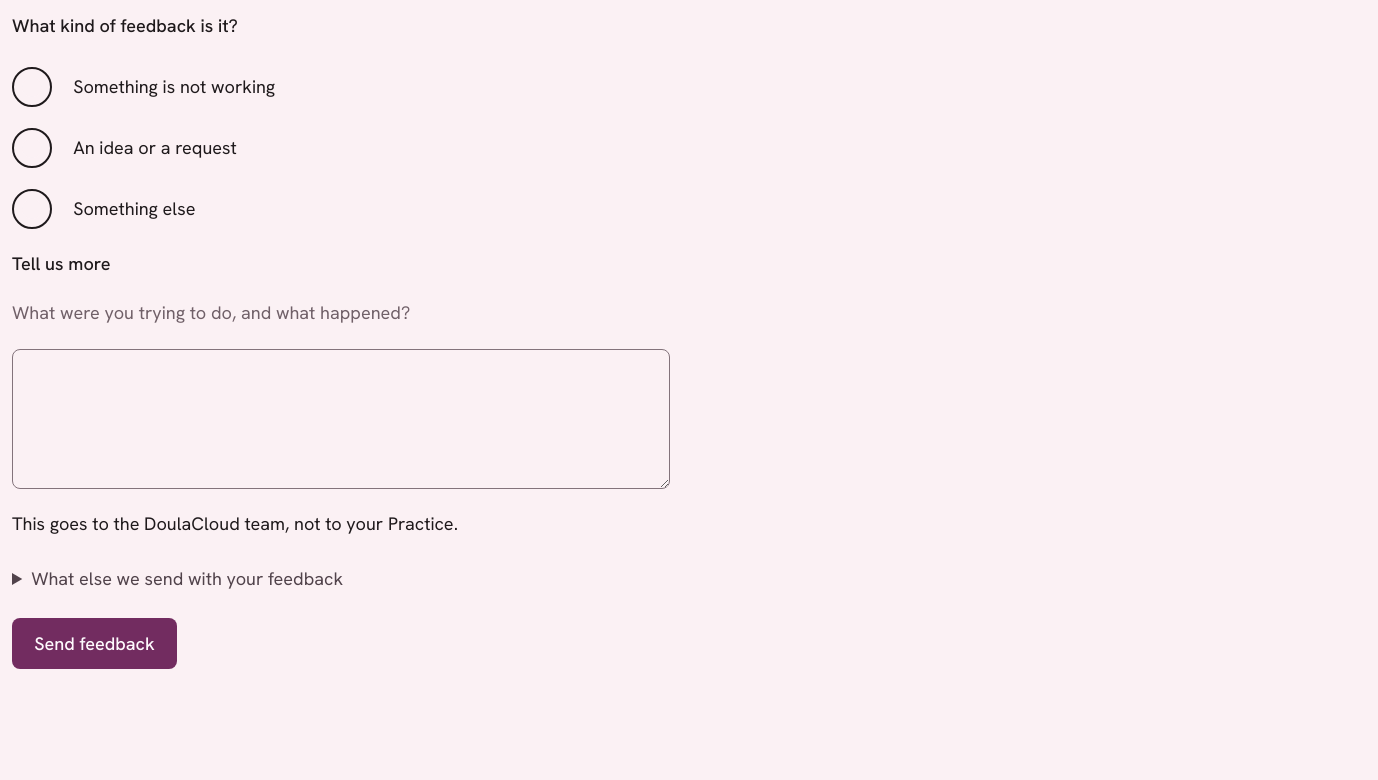
Test: FeedbackForm › targets the text field when the refusal names it
Click the radio button labelled "Something is not working". click: click(32, 87)
box: [12,67,52,107]
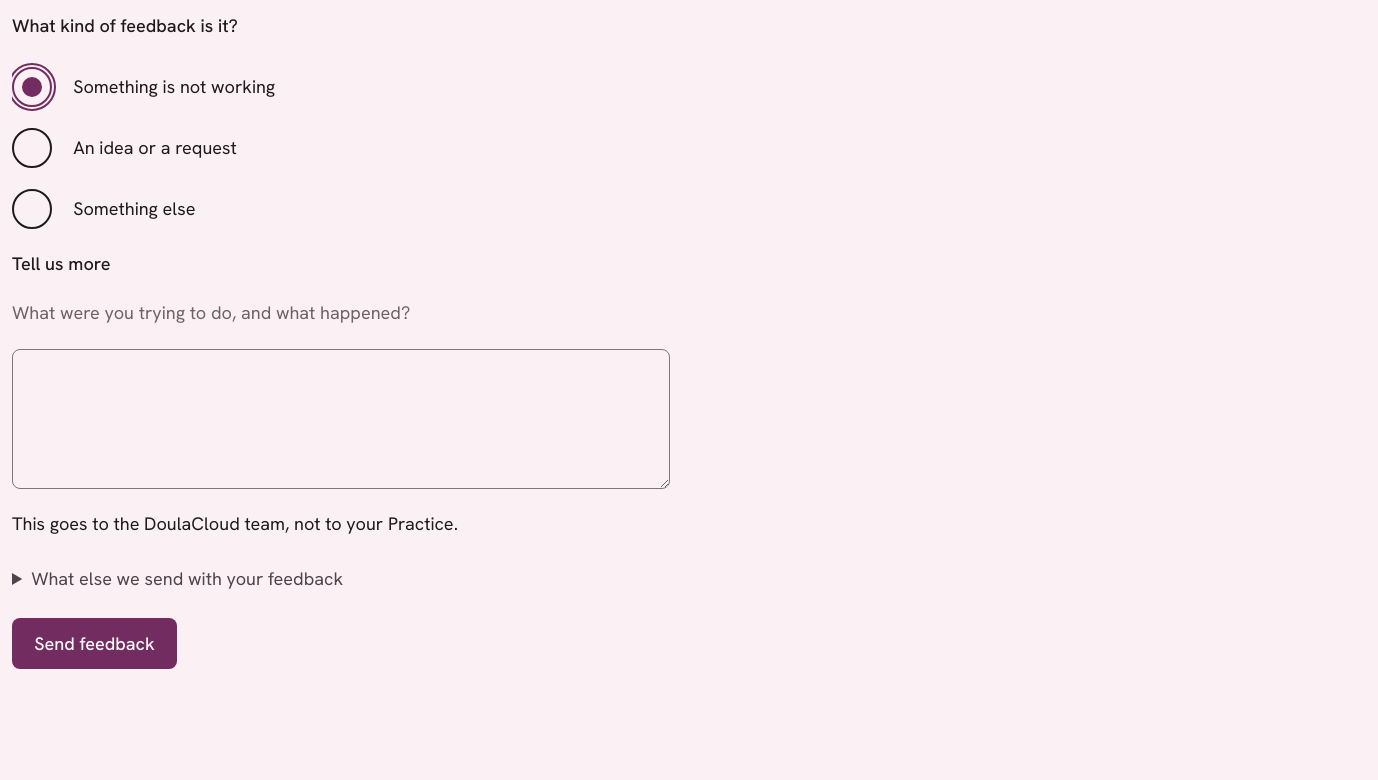
Click the button "Send feedback". click: click(94, 644)
box: [12,618,177,670]
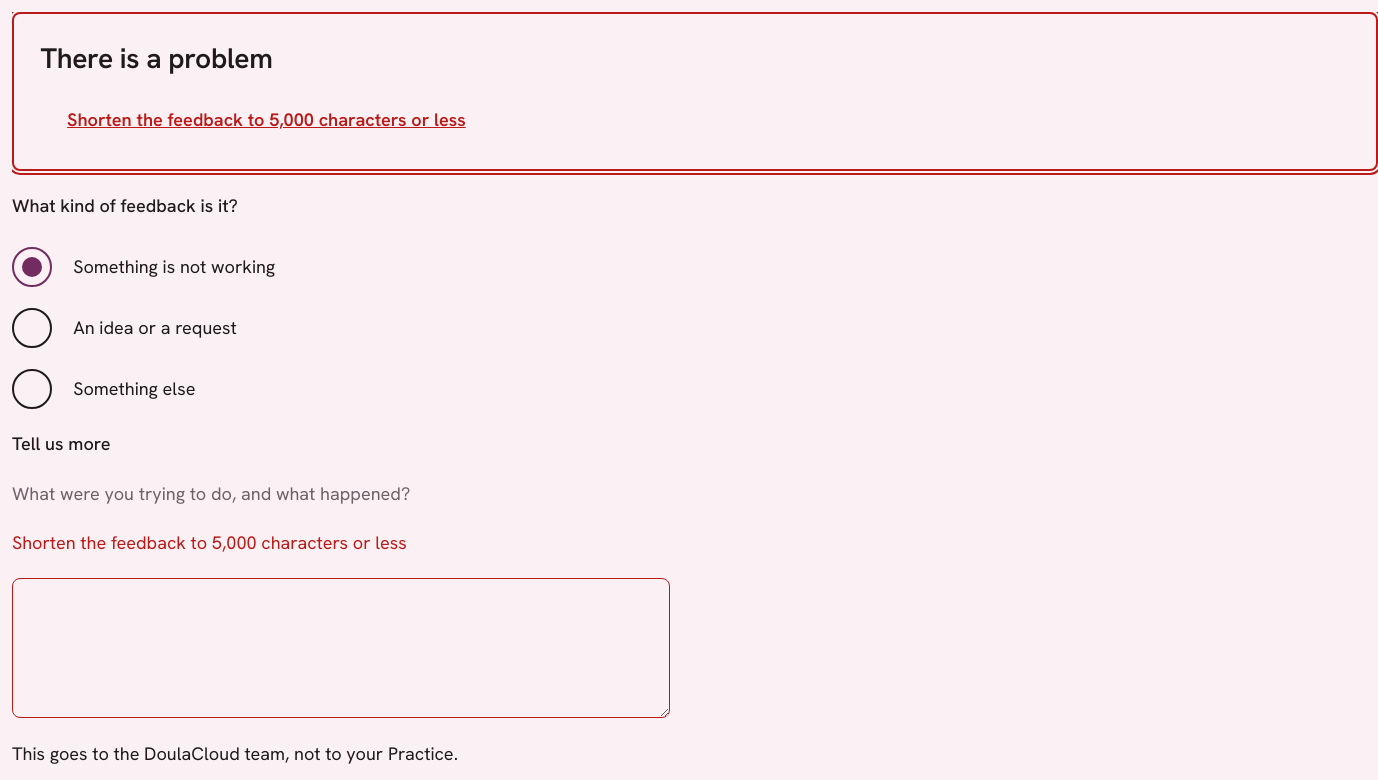
Check: the text "Shorten the feedback to 5,000 characters or less" is shown, box [67,106,466,134]
